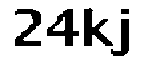2: (10, 8, 44, 49)
4: (46, 5, 81, 49)
j: (113, 5, 138, 60)
k: (83, 6, 114, 49)
